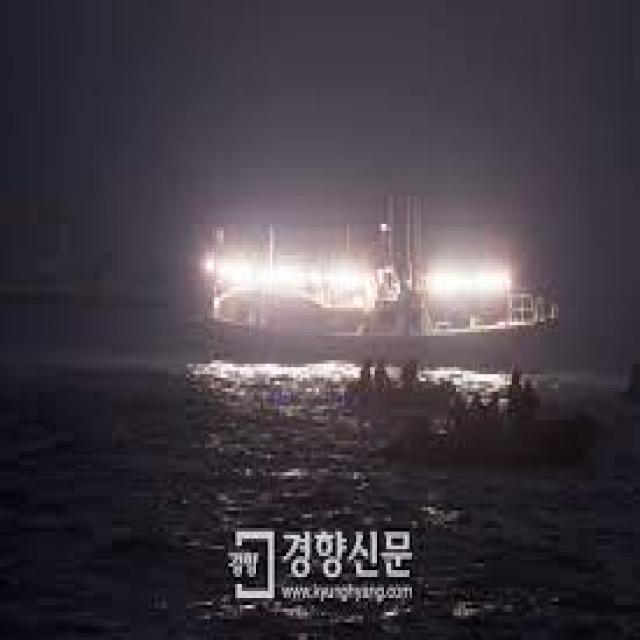Ship: (185, 180, 567, 379)
